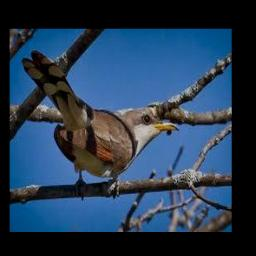Cuckoo: (23, 50, 180, 186)
